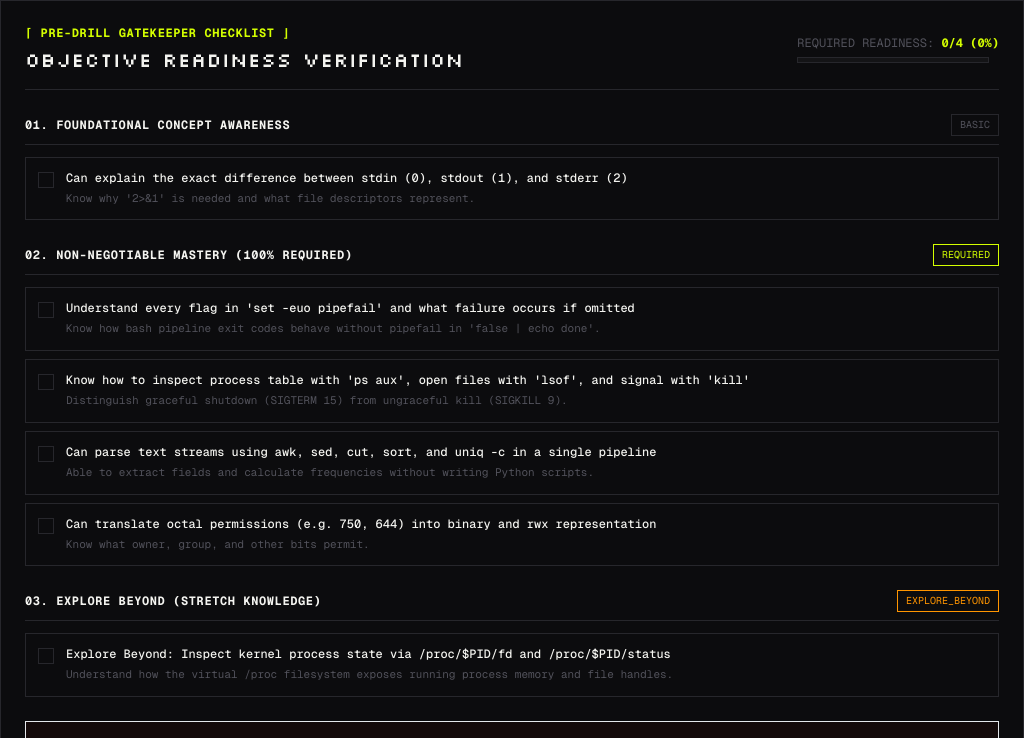
it: ChecklistGatekeeper Component › unlocks the Drill Room button strictly after checking 100% of required items
This screenshot has width=1024, height=738.
Click the text "Understand every flag in 'set -euo pipefail' and what failure occurs if omitted".
click(350, 308)  # box [66, 300, 635, 316]
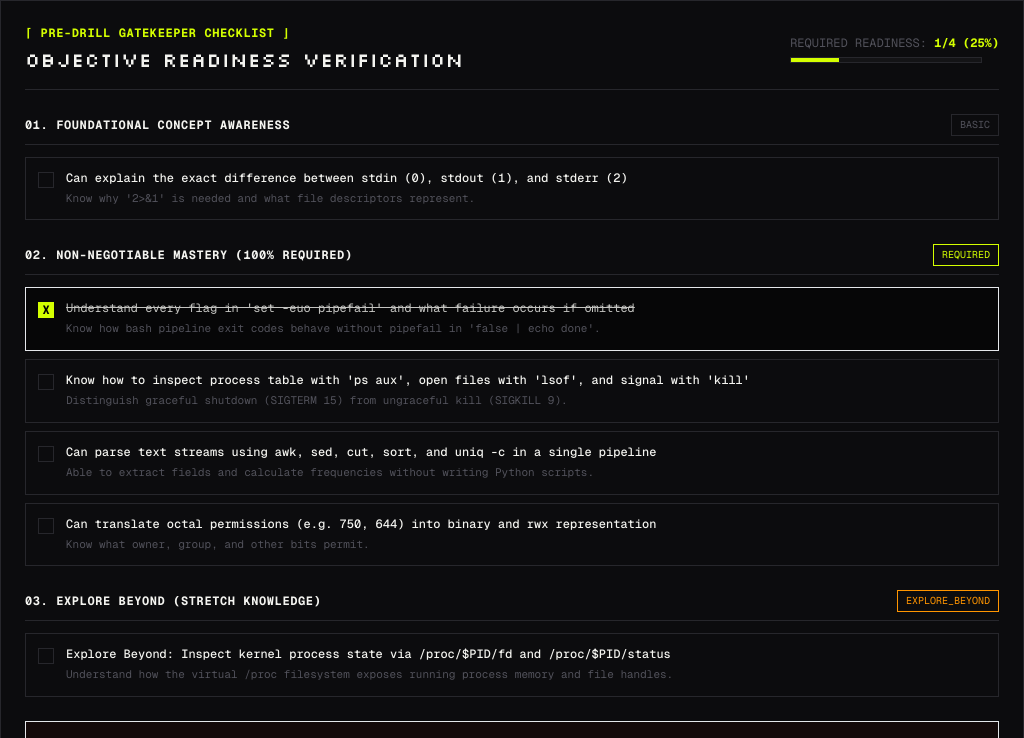
Click the text "Know how to inspect process table with 'ps aux', open files with 'lsof', and signal with 'kill'".
click(408, 380)  # box [66, 372, 750, 388]
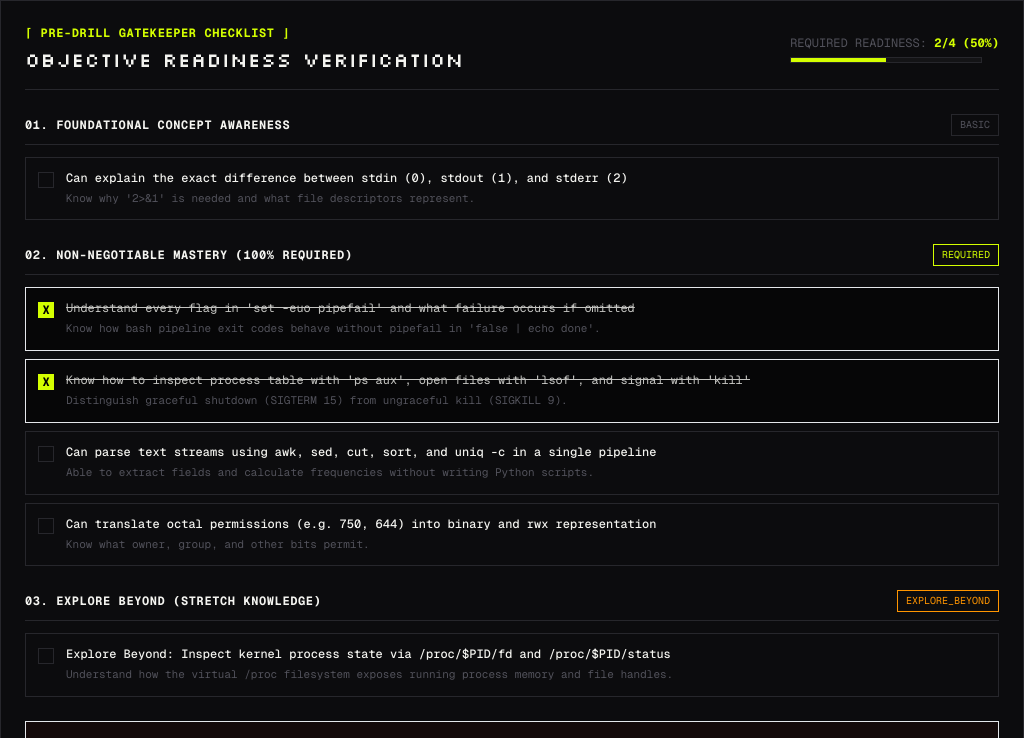
Click the text "Can parse text streams using awk, sed, cut, sort, and uniq -c in a single pipeline".
click(361, 452)  # box [66, 444, 656, 460]
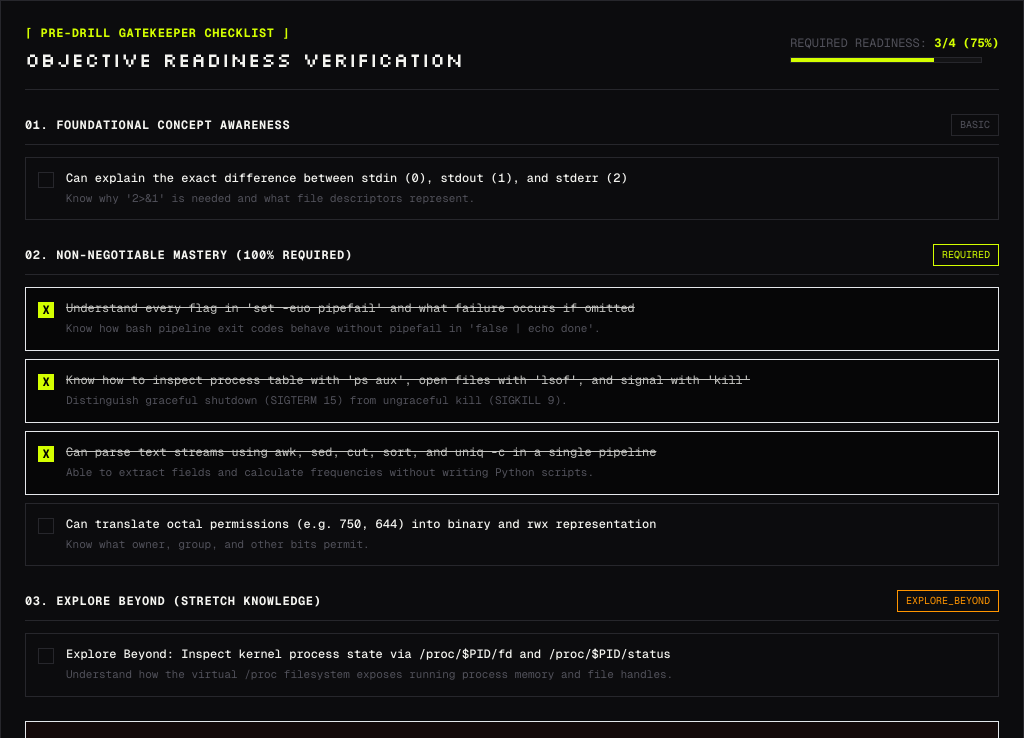
Click the text "Can translate octal permissions (e.g. 750, 644) into binary and rwx representation".
click(361, 524)  # box [66, 516, 656, 532]
(page scrolled)
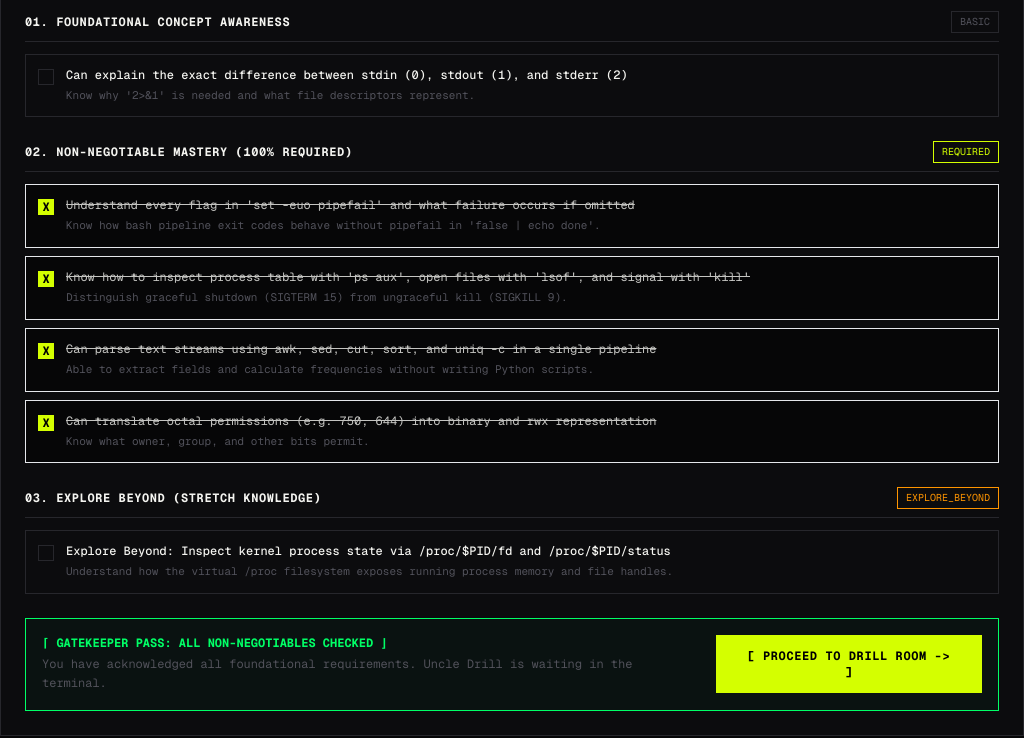
Result: the text "⌈ GATEKEEPER PASS: ALL NON-NEGOTIABLES CHECKED ⌋" is shown at [42, 635, 388, 651]
Result: the button "[ PROCEED TO DRILL ROOM -> ]" is shown at [716, 635, 982, 693]
